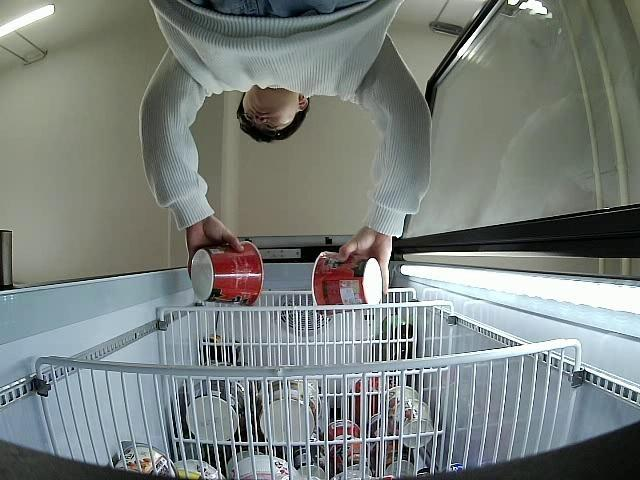01_ShinRamen_L: (190, 243, 264, 306), (312, 250, 383, 315)
